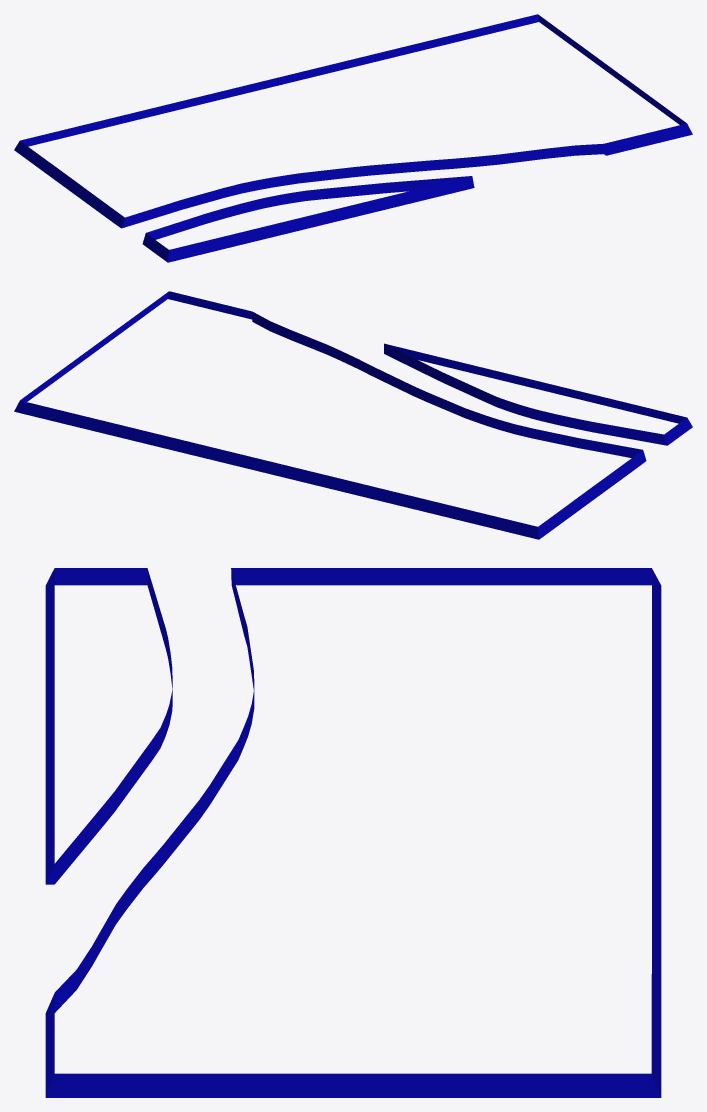
Rendered from cityEdges.FBX.
3 views of the same model, one above another, from view 1: azimuth 30°, elevation 25°; view 2: azimuth 150°, elevation 25°; view 3: azimuth 270°, elevation 25° (orthographic). The views are drawn at different scales.
Parts seen in each view (by area): view 1: cityEdges; view 2: cityEdges; view 3: cityEdges.
Part boxes in pixels (<box>): cityEdges: <box>14,14,692,262</box>; cityEdges: <box>14,291,692,539</box>; cityEdges: <box>45,568,661,1097</box>.
Bounding box in the file's own units: 575955 × 10915 × 292398.
